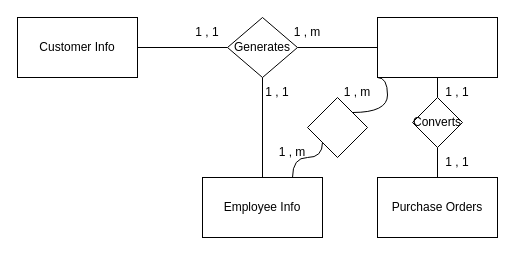
This 515x255 diagram has some shape labels left out. Each missing label, with the centre of its shape:
"Edits" belongs at (x=337, y=127).
"Quotes" belongs at (x=437, y=47).
